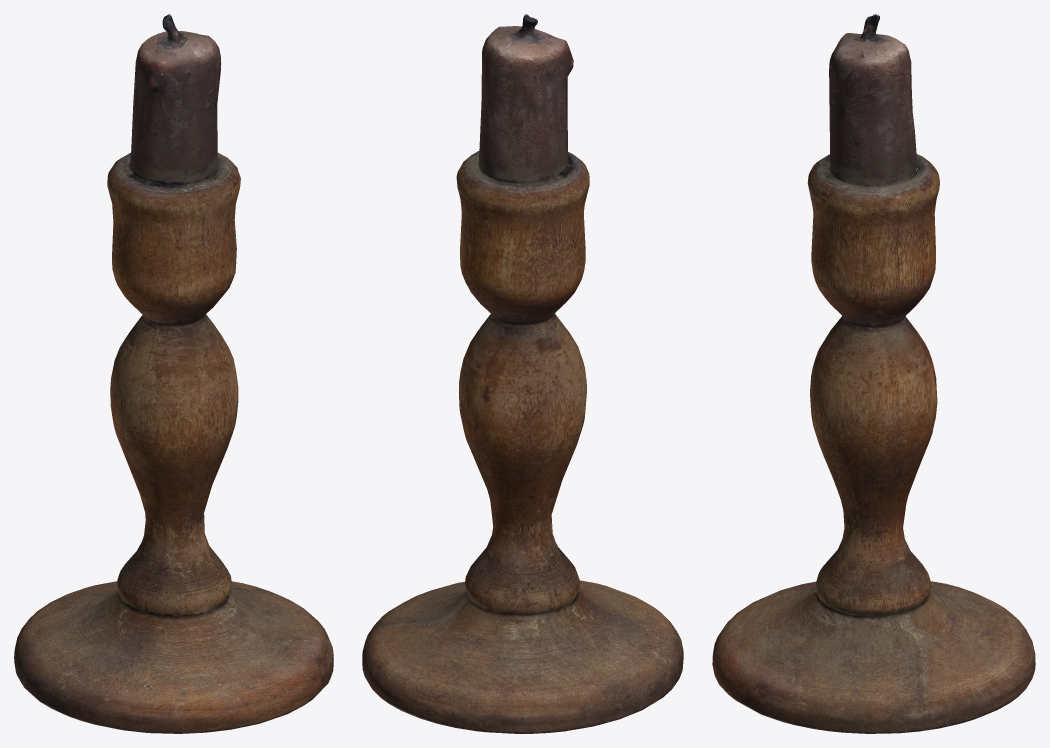
The model's file is ph-candlestick.glb.
3 renders of one model, left to right at view 1: azimuth 30°, elevation 25°; view 2: azimuth 150°, elevation 25°; view 3: azimuth 270°, elevation 25°, orthographic.
Visible parts, largest first — view 1: wooden_candlestick; view 2: wooden_candlestick; view 3: wooden_candlestick.
Boxes of the visible parts, bbox=[...] form: wooden_candlestick: bbox=[14, 14, 333, 733]; wooden_candlestick: bbox=[362, 14, 683, 733]; wooden_candlestick: bbox=[712, 14, 1035, 733].
Bounding box in the file's own units: 0.0972 × 0.2196 × 0.0986.
Materials: 1 (1 with a texture image).
